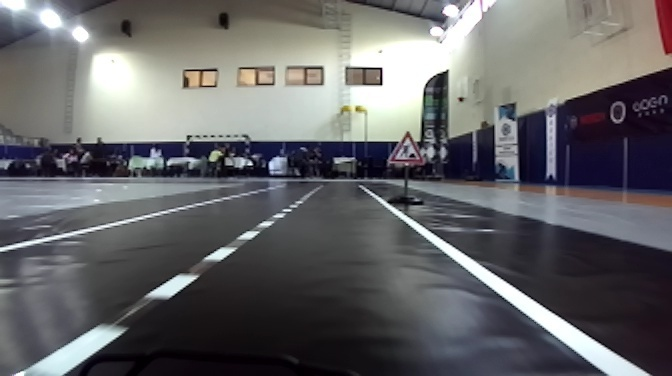yol_yapimi: (385, 133, 426, 166)
